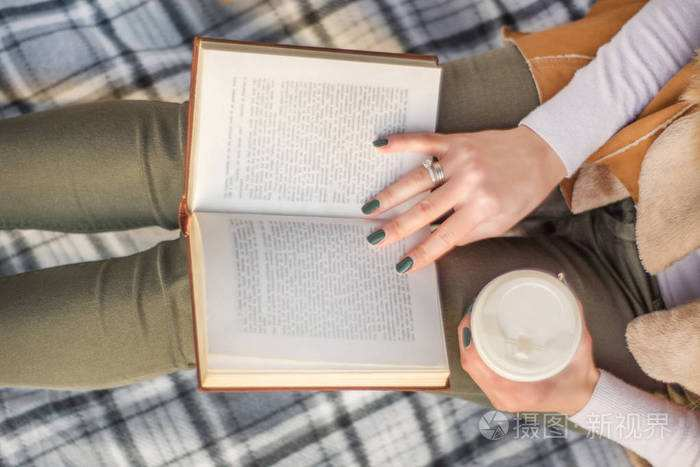book: (150, 29, 597, 407)
